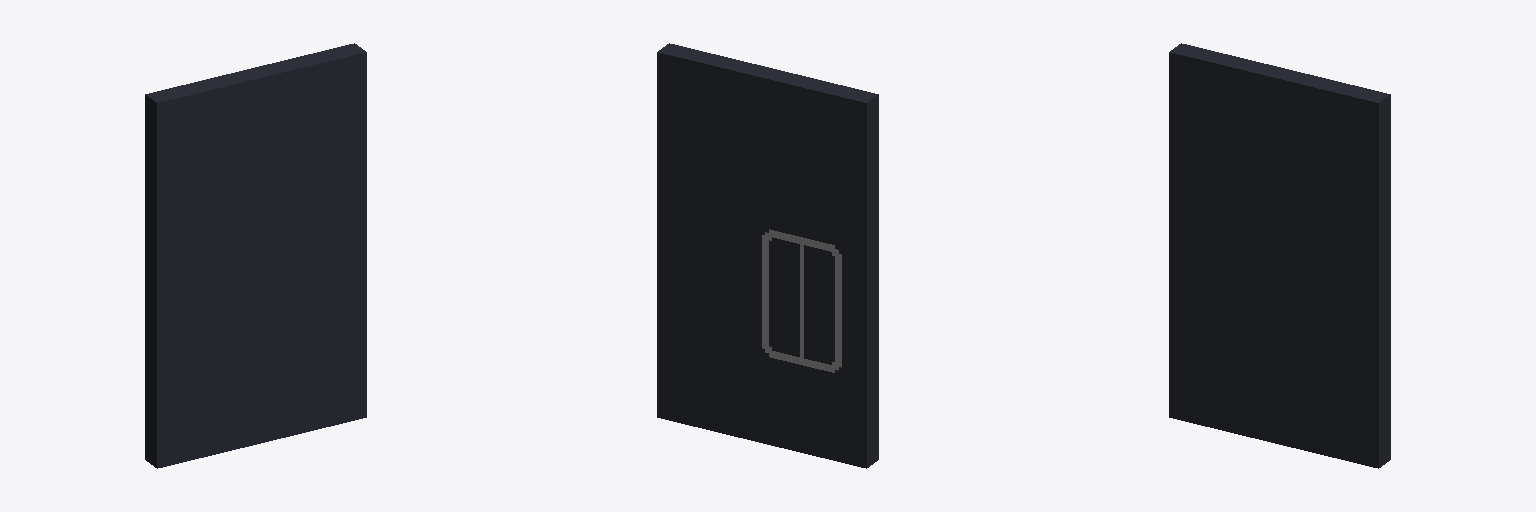
3 renders of one model, left to right at view 1: azimuth 30°, elevation 25°; view 2: azimuth 150°, elevation 25°; view 3: azimuth 330°, elevation 25°, orthographic.
Parts seen in each view (by area): view 1: object 1; view 2: object 1; view 3: object 1.
Part boxes in pixels (left/top/right/bottom): object 1: left=145, top=43, right=366, bottom=468; object 1: left=657, top=43, right=878, bottom=468; object 1: left=1169, top=43, right=1390, bottom=468.
Size of the model in its own units: 6 by 10 by 0.6.
1 materials, 1 textured.